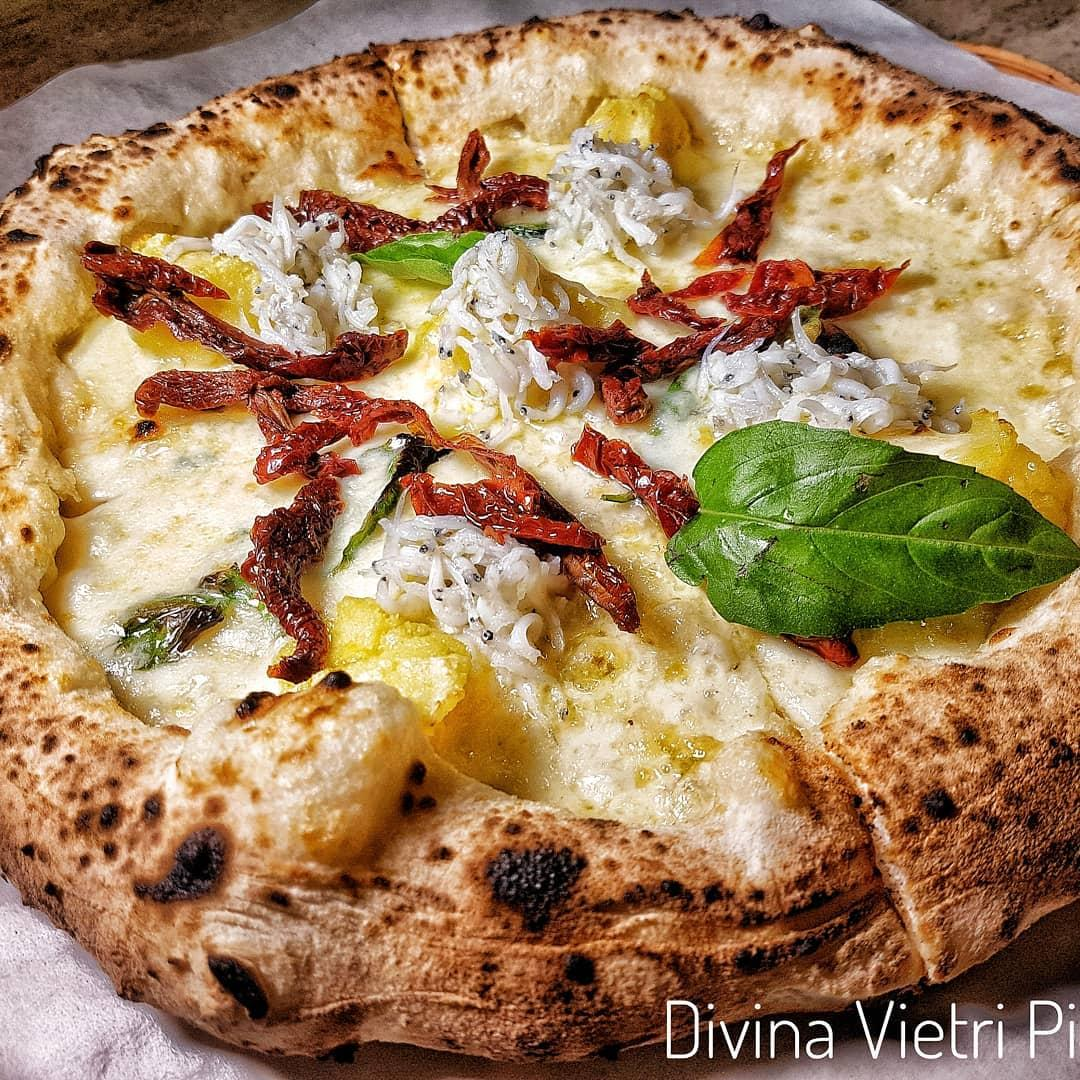Basil: (664, 415, 1080, 649), (339, 223, 494, 287)
Pizza: (0, 5, 1080, 1067)
Tomatoes: (519, 252, 915, 388), (125, 362, 523, 477), (450, 431, 649, 645), (85, 277, 421, 383), (231, 467, 353, 686), (399, 457, 613, 552), (692, 127, 813, 276), (560, 418, 703, 540), (238, 396, 365, 489), (70, 239, 232, 307), (591, 311, 652, 422), (780, 614, 875, 670)
